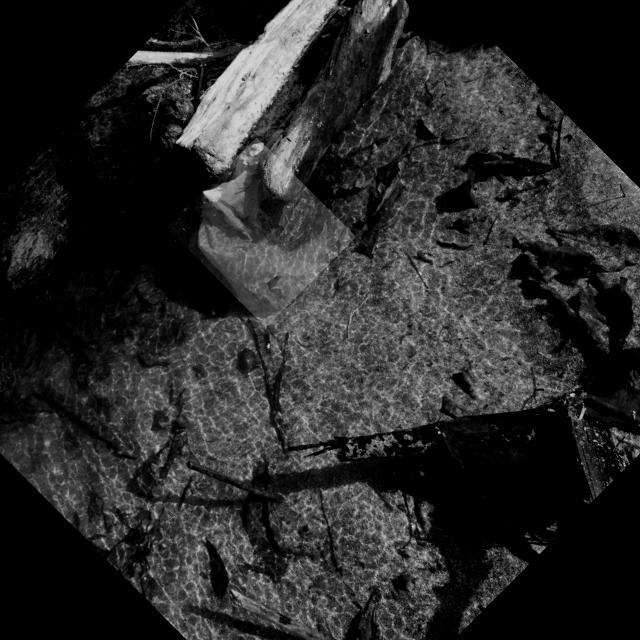Single-use carrier bag: (198, 170, 327, 311)
